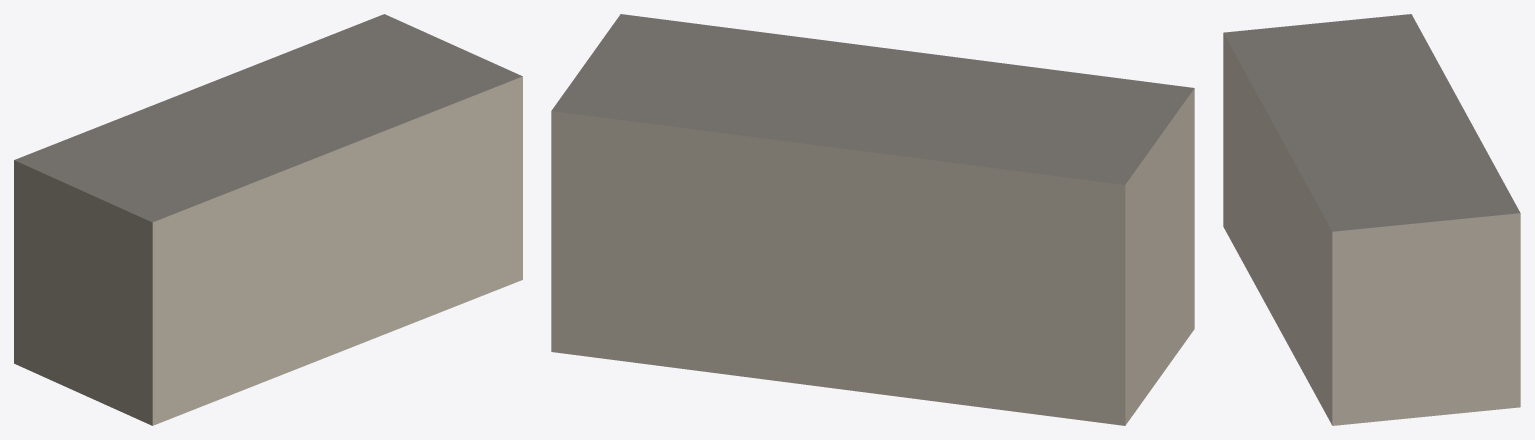
3 views of the same model, side by side, from view 1: azimuth 30°, elevation 25°; view 2: azimuth 150°, elevation 25°; view 3: azimuth 270°, elevation 25° (orthographic). The views are drawn at different scales.
Visible parts, largest first — view 1: HP-w1287262154; view 2: HP-w1287262154; view 3: HP-w1287262154.
Boxes of the visible parts, x1,y1,x2,y2 form: HP-w1287262154: [14, 14, 522, 425]; HP-w1287262154: [551, 14, 1194, 425]; HP-w1287262154: [1223, 14, 1520, 425].
Bounding box in the file's own units: 43.27 × 18 × 24.96.
